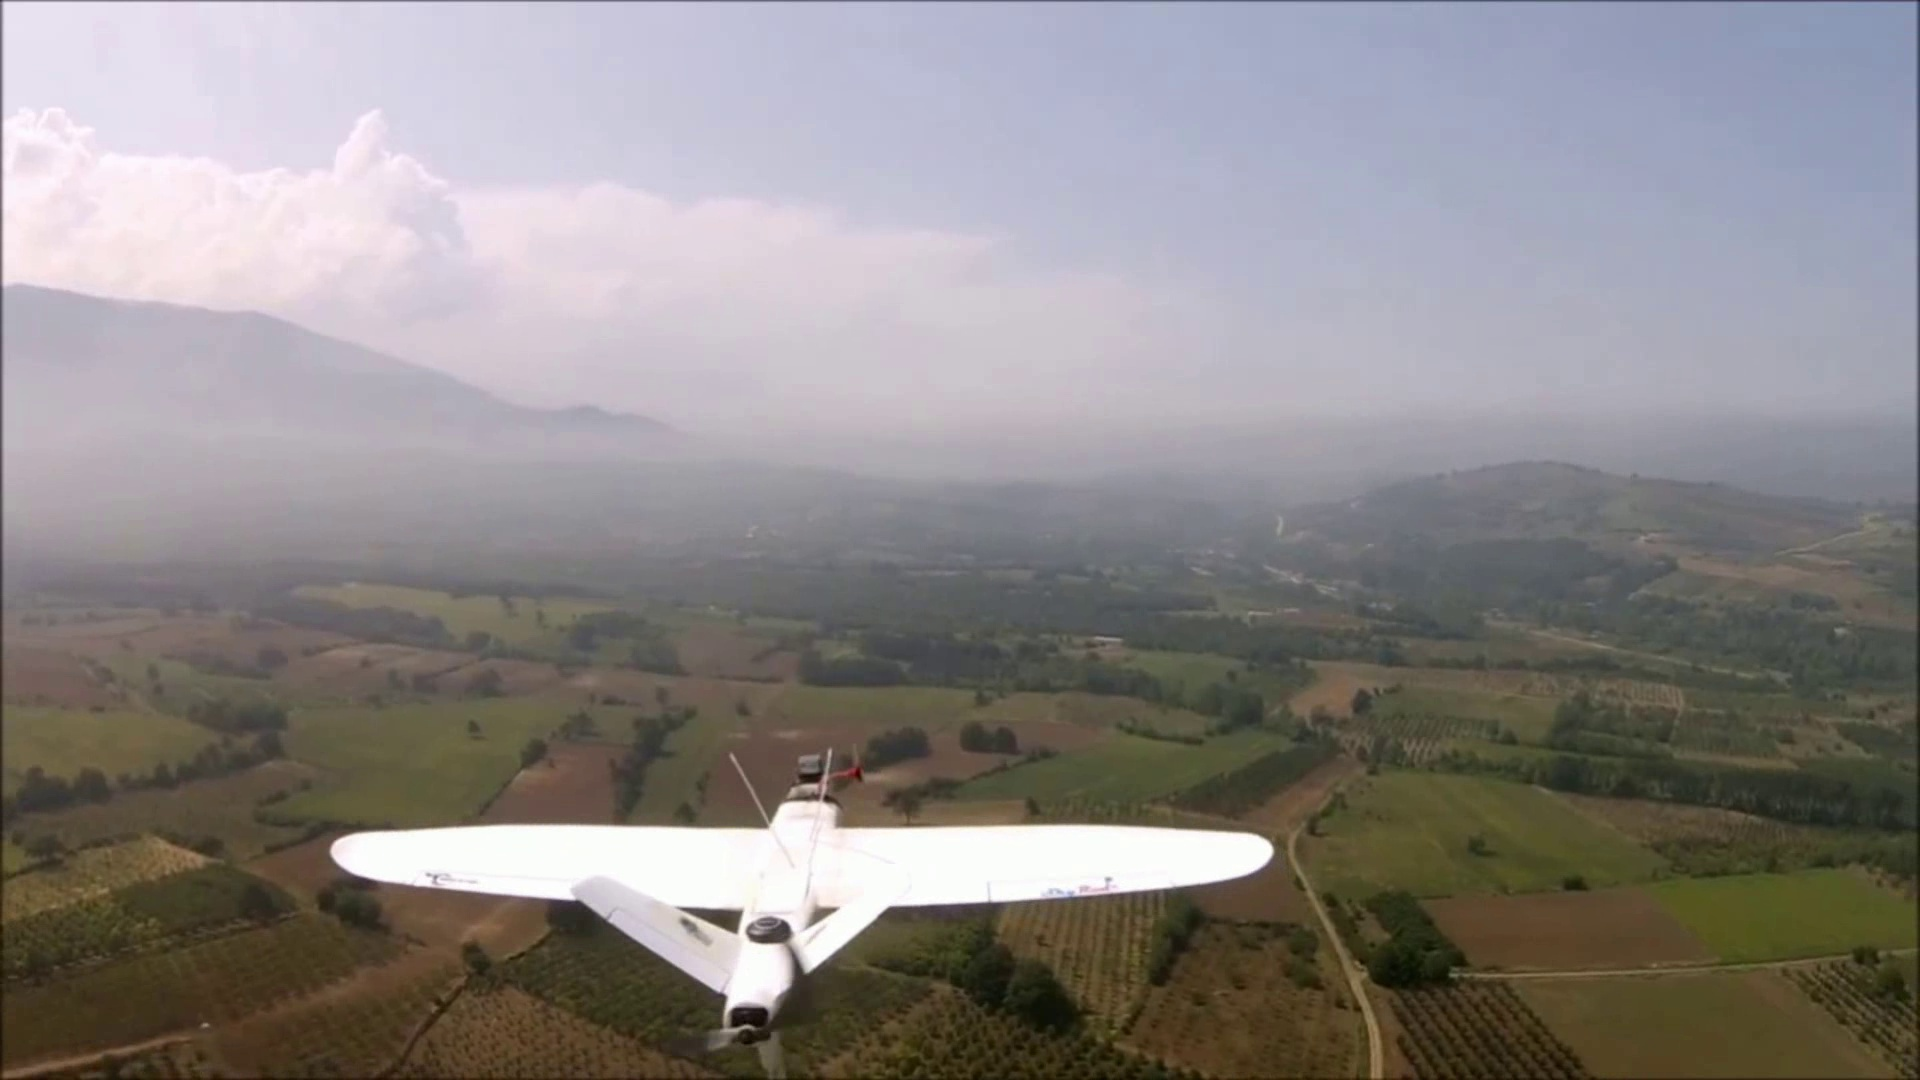airplane: (322, 752, 1276, 1044)
